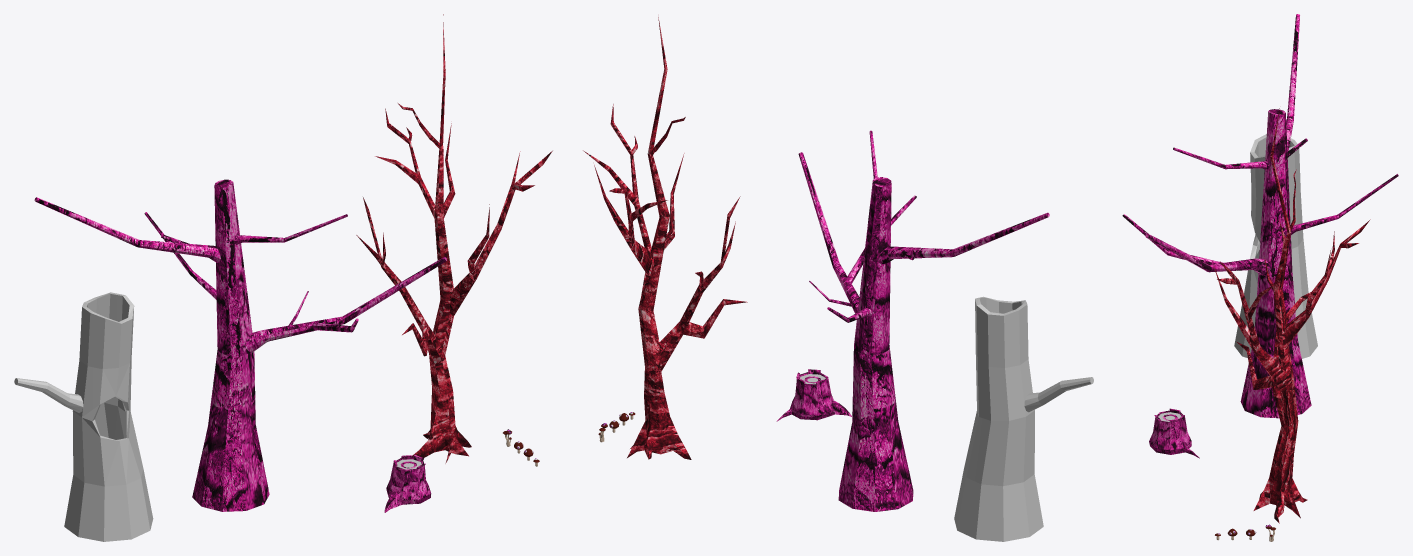
File: Vegetaçao.fbx
The picture shows the model from 3 angles, left to right: view 1: azimuth 30°, elevation 25°; view 2: azimuth 150°, elevation 25°; view 3: azimuth 270°, elevation 25°; orthographic projection. The views are drawn at different scales.
Visible parts, largest first — view 1: Arvore_2, Arvore_3, Arvore1, Tronco; view 2: Arvore_2, Arvore_3, Arvore1, Tronco; view 3: Arvore_2, Arvore1, Arvore_3, Tronco.
Boxes of the visible parts, x1,y1,x2,y2 form: Arvore_2: (34, 179, 446, 511); Arvore_3: (14, 292, 153, 541); Arvore1: (356, 14, 552, 463); Tronco: (384, 454, 431, 512); Arvore_2: (798, 130, 1049, 511); Arvore_3: (954, 296, 1093, 541); Arvore1: (583, 17, 747, 459); Tronco: (776, 369, 851, 421); Arvore_2: (1122, 14, 1398, 418); Arvore1: (1213, 108, 1370, 523); Arvore_3: (1234, 134, 1317, 358); Tronco: (1149, 408, 1199, 458).
Size of the model in its own units: 503 by 420 by 258.
